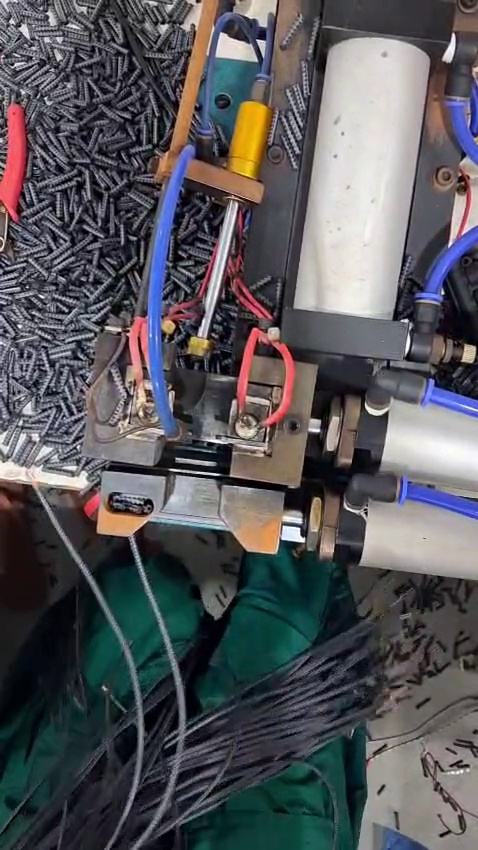machine: (80, 313, 325, 519)
